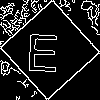E: (25, 25, 61, 72)
